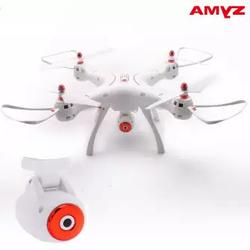drone: (1, 46, 248, 159)
